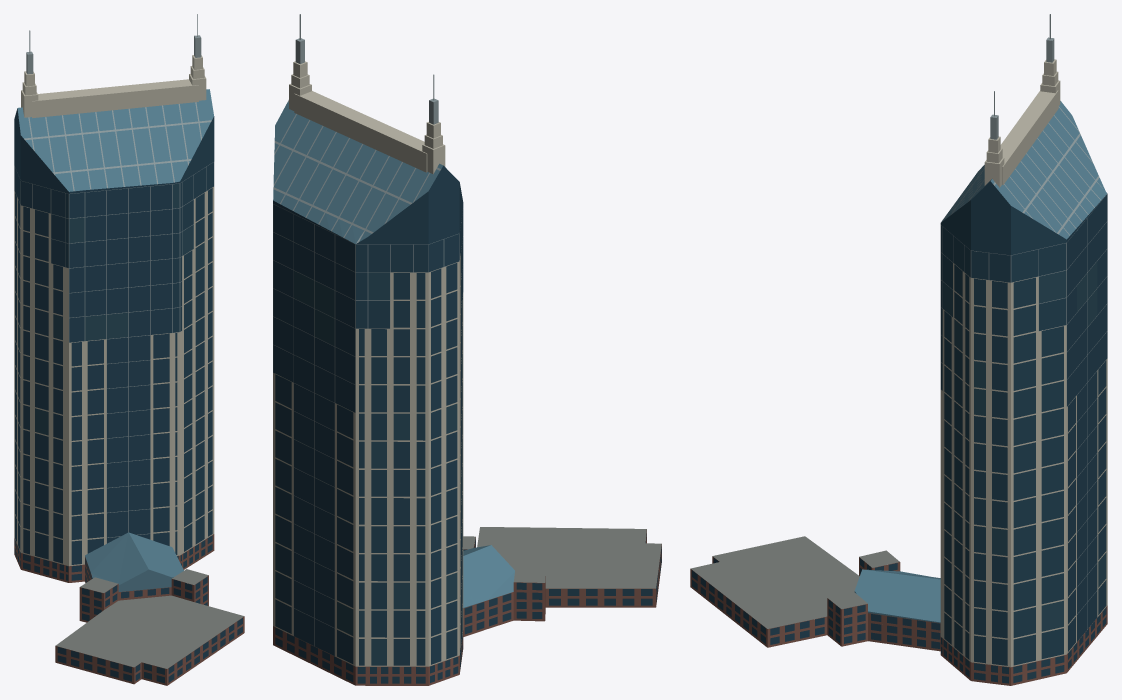
File: att-building-nashville-far.glb
3 renders of one model, left to right at view 1: azimuth 30°, elevation 25°; view 2: azimuth 150°, elevation 25°; view 3: azimuth 270°, elevation 25°, orthographic. The views are drawn at different scales.
Parts seen in each view (by area): view 1: att-building-nashville-0-glass, att-building-nashville-0-stone, att-building-nashville-0-crown, att-building-nashville-0-roof, att-building-nashville-0-metal, att-building-nashville-0-brick, att-building-nashville-0-glow; view 2: att-building-nashville-0-glass, att-building-nashville-0-stone, att-building-nashville-0-crown, att-building-nashville-0-roof, att-building-nashville-0-metal, att-building-nashville-0-brick, att-building-nashville-0-glow; view 3: att-building-nashville-0-glass, att-building-nashville-0-stone, att-building-nashville-0-crown, att-building-nashville-0-roof, att-building-nashville-0-brick, att-building-nashville-0-metal, att-building-nashville-0-glow.
Boxes of the visible parts, left/top/right/bottom form: att-building-nashville-0-glass: left=14, top=108, right=242, bottom=683; att-building-nashville-0-stone: left=14, top=55, right=214, bottom=566; att-building-nashville-0-crown: left=17, top=89, right=213, bottom=591; att-building-nashville-0-roof: left=55, top=569, right=243, bottom=668; att-building-nashville-0-metal: left=14, top=14, right=214, bottom=543; att-building-nashville-0-brick: left=14, top=534, right=244, bottom=685; att-building-nashville-0-glow: left=18, top=183, right=204, bottom=500; att-building-nashville-0-glass: left=273, top=165, right=661, bottom=683; att-building-nashville-0-stone: left=273, top=61, right=463, bottom=666; att-building-nashville-0-crown: left=273, top=102, right=514, bottom=608; att-building-nashville-0-roof: left=463, top=527, right=661, bottom=588; att-building-nashville-0-metal: left=273, top=14, right=463, bottom=656; att-building-nashville-0-brick: left=273, top=529, right=661, bottom=685; att-building-nashville-0-glow: left=294, top=271, right=462, bottom=665; att-building-nashville-0-glass: left=692, top=181, right=1107, bottom=683; att-building-nashville-0-stone: left=940, top=59, right=1107, bottom=667; att-building-nashville-0-crown: left=854, top=101, right=1106, bottom=623; att-building-nashville-0-roof: left=690, top=193, right=1107, bottom=628; att-building-nashville-0-brick: left=690, top=556, right=1107, bottom=685; att-building-nashville-0-metal: left=940, top=14, right=1107, bottom=639; att-building-nashville-0-glow: left=943, top=261, right=1106, bottom=631.
Size of the model in its own units: 90.09 by 188 by 121.
